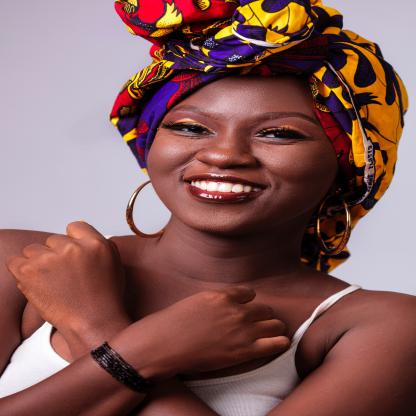Eye: (253, 126, 312, 144), (159, 121, 216, 136)
Mouth: (185, 174, 268, 203)
Nose: (193, 127, 259, 170)
